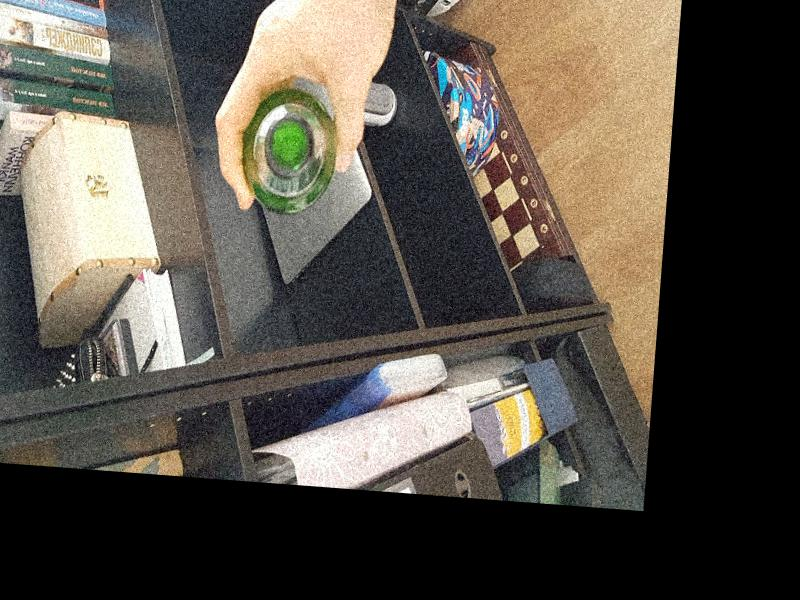Beer: (239, 88, 342, 210)
